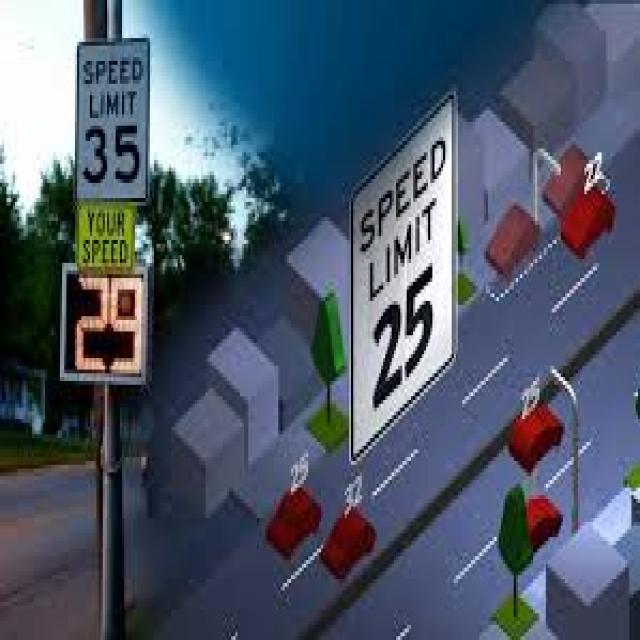speedLimit25: (349, 88, 456, 461)
speedLimit35: (74, 36, 149, 196)
